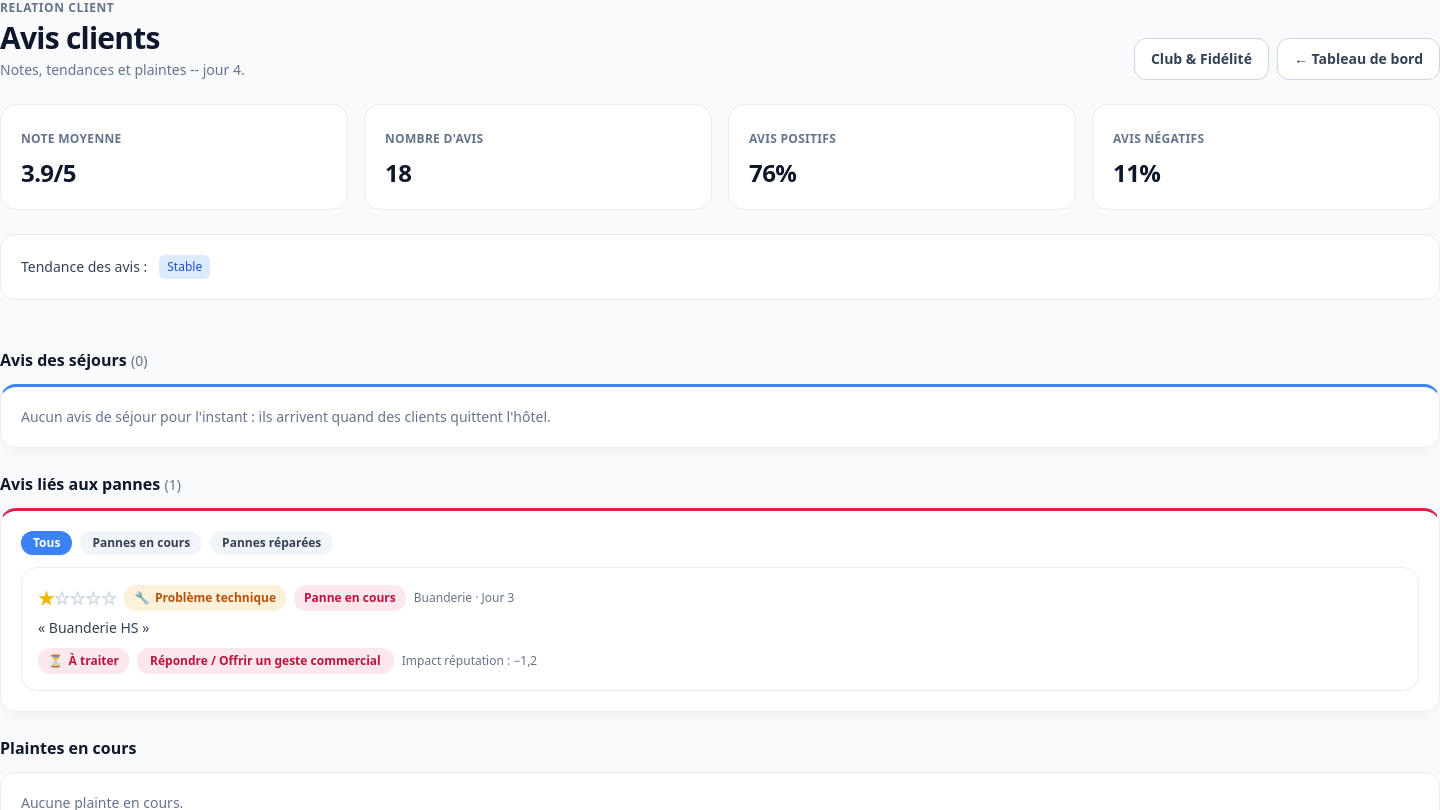
it: Clients / Avis: answering › the breakdown reviews can be answered too
The image size is (1440, 810).
Click the button "Répondre / Offrir un geste commercial" at (265, 661), box [137,648,394,674]
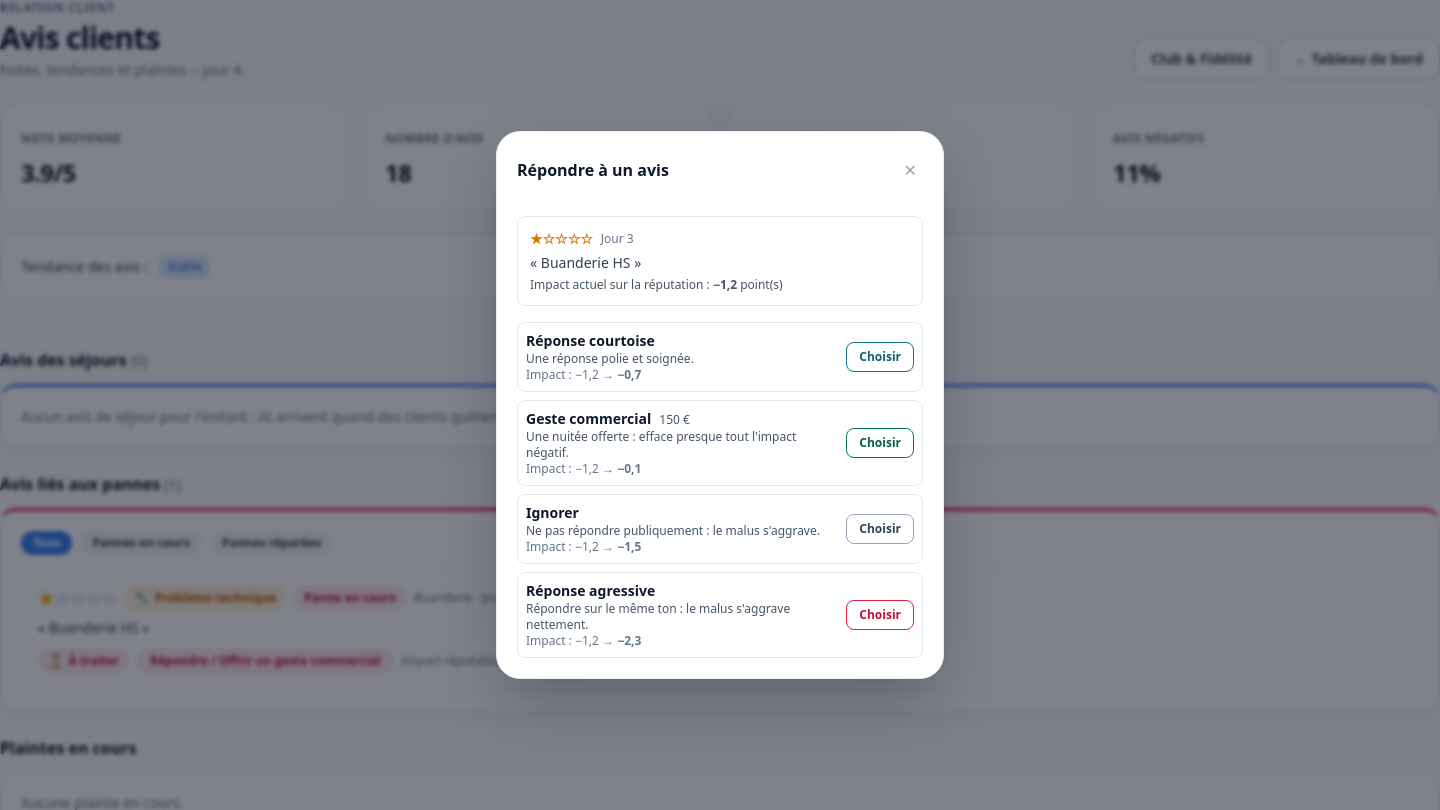
Check: the dialog "Répondre à un avis" is shown
Check: the element with test id "response-review" shows "Buanderie HS", box [541,253,631,272]
